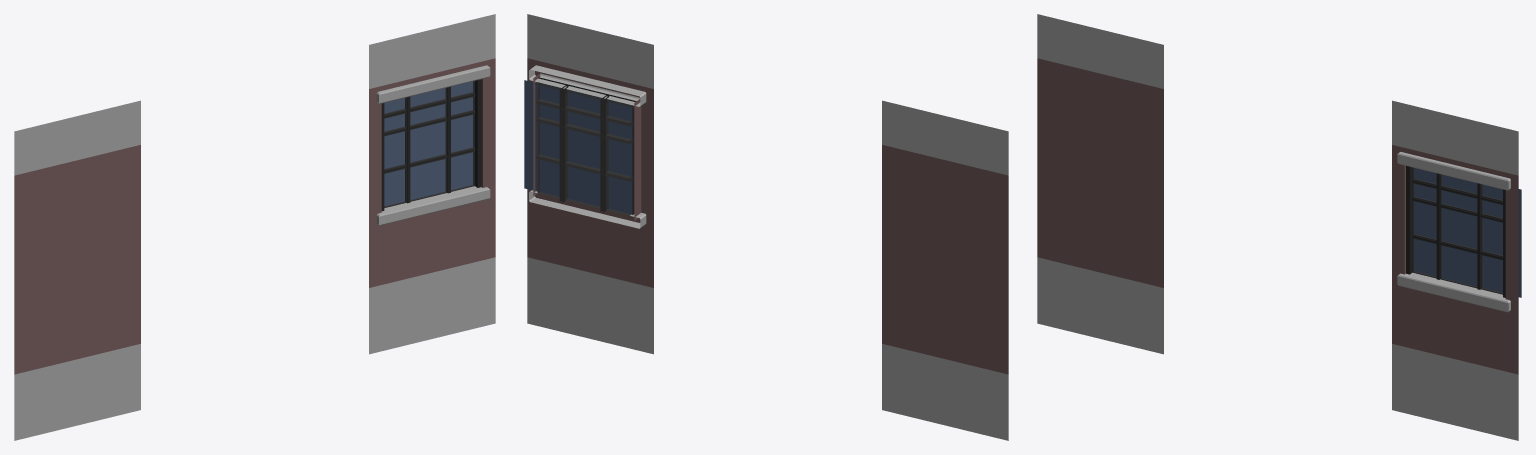
The model's file is kale muur.fbx.
The picture shows the model from 3 angles, left to right: view 1: azimuth 30°, elevation 25°; view 2: azimuth 150°, elevation 25°; view 3: azimuth 330°, elevation 25°; orthographic projection.
Parts seen in each view (by area): view 1: Plane781, Plane737, Plane738, Plane783, Object292, Object300, Object299, Object293, Plane809, Plane848, Plane808, Plane849 (+1 smaller); view 2: Plane781, Plane737, Plane738, Plane783, Object292, Object300, Object293, Object299, Object303, Plane848, Plane809, Plane808 (+1 smaller); view 3: Plane781, Plane737, Plane738, Plane783, Object292, Object299, Object300, Object293, Plane848, Plane809, Plane849, Plane808 (+1 smaller).
Boxes of the visible parts, <box> form: Plane781: <box>369,58,495,287</box>; Plane737: <box>14,160,77,374</box>; Plane738: <box>77,145,140,358</box>; Plane783: <box>384,81,473,206</box>; Object292: <box>14,359,77,440</box>; Object300: <box>432,257,495,338</box>; Object299: <box>369,273,432,354</box>; Object293: <box>77,344,140,425</box>; Plane809: <box>432,14,495,73</box>; Plane848: <box>14,116,77,175</box>; Plane808: <box>369,29,432,88</box>; Plane849: <box>77,100,140,159</box>; Plane781: <box>527,58,653,287</box>; Plane737: <box>945,160,1008,374</box>; Plane738: <box>882,145,945,358</box>; Plane783: <box>524,80,632,214</box>; Object292: <box>945,359,1008,440</box>; Object300: <box>527,257,590,338</box>; Object293: <box>882,344,945,425</box>; Object299: <box>590,273,653,354</box>; Object303: <box>535,77,636,214</box>; Plane848: <box>945,116,1008,175</box>; Plane809: <box>527,14,590,73</box>; Plane808: <box>590,29,653,88</box>; Plane781: <box>1392,145,1518,374</box>; Plane737: <box>1037,58,1100,272</box>; Plane738: <box>1100,74,1163,287</box>; Plane783: <box>1414,168,1521,297</box>; Object292: <box>1037,257,1100,338</box>; Object299: <box>1392,344,1455,425</box>; Object300: <box>1455,359,1518,440</box>; Object293: <box>1100,273,1163,354</box>; Plane848: <box>1037,14,1100,73</box>; Plane809: <box>1455,116,1518,175</box>; Plane849: <box>1100,29,1163,88</box>; Plane808: <box>1392,100,1455,159</box>.
Bounding box in the file's own units: 1139 × 700 × 48.44.
